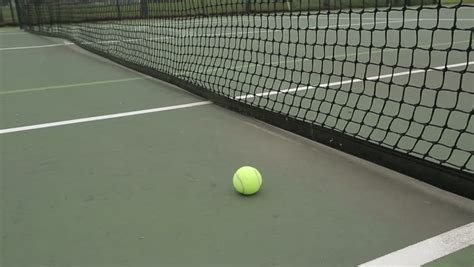tennis_ball: (232, 165, 263, 196)
